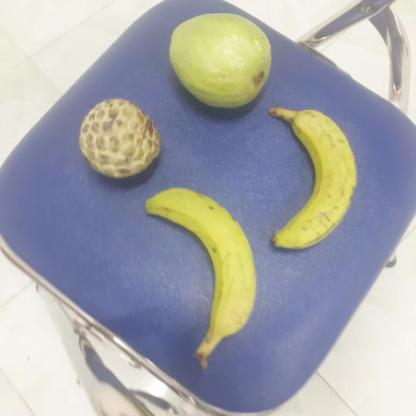annona: (74, 98, 159, 180)
banana: (137, 188, 255, 342), (265, 110, 358, 245)
guava: (166, 7, 273, 111)
